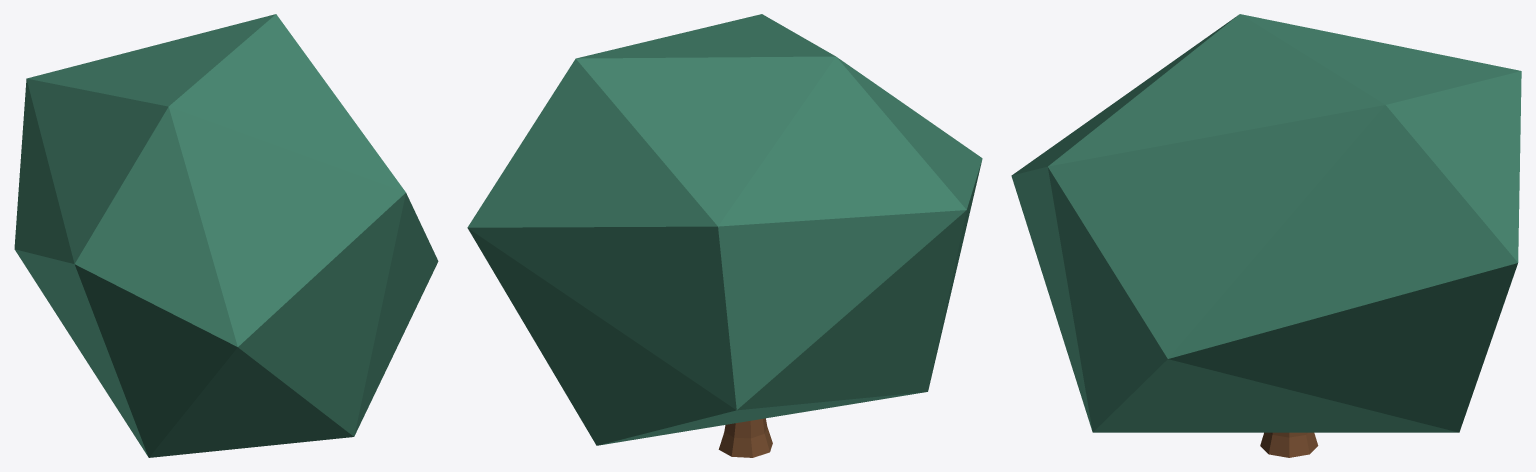
The model's file is bush1.fbx.
3 renders of one model, left to right at view 1: azimuth 30°, elevation 25°; view 2: azimuth 150°, elevation 25°; view 3: azimuth 270°, elevation 25°, orthographic. The views are drawn at different scales.
Visible parts, largest first — view 1: Cylinder; view 2: Cylinder; view 3: Cylinder.
Part boxes in pixels (<box>): Cylinder: <box>14,14,438,457</box>; Cylinder: <box>467,14,982,457</box>; Cylinder: <box>1011,14,1521,457</box>.
Bounding box in the file's own units: 182 × 180 × 207.
